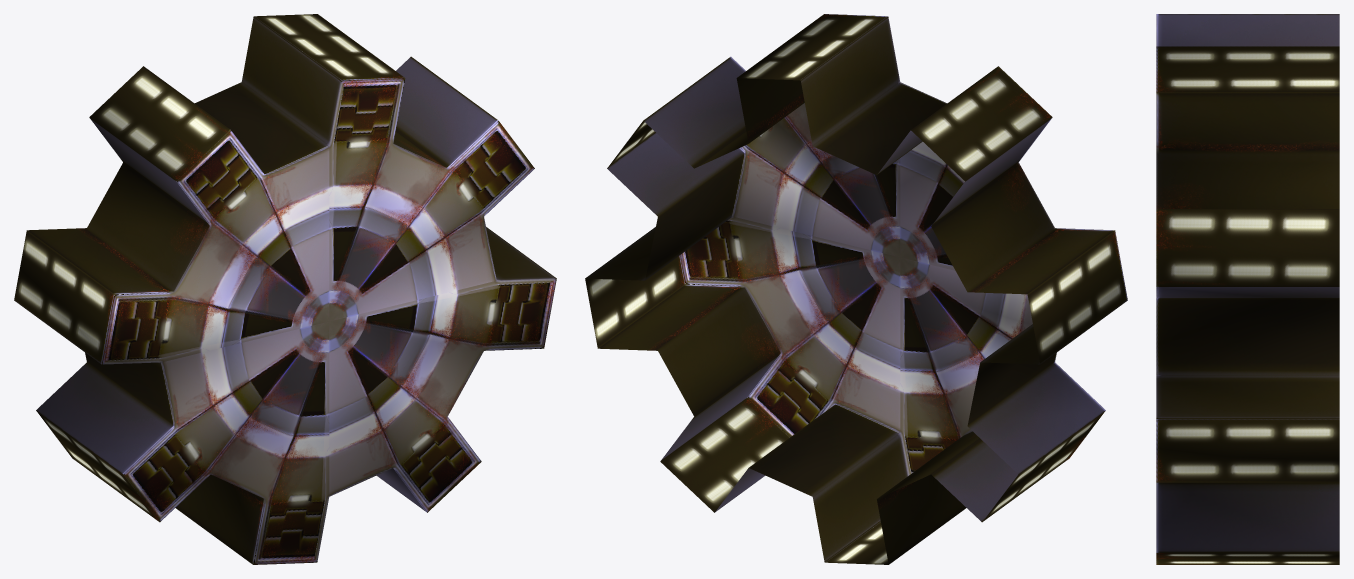
The model's file is newGear.FBX.
3 renders of one model, left to right at view 1: azimuth 30°, elevation 25°; view 2: azimuth 150°, elevation 25°; view 3: azimuth 270°, elevation 25°, orthographic. The views are drawn at different scales.
Visible parts, largest first — view 1: Gear; view 2: Gear; view 3: Gear.
Part boxes in pixels (bbox=[...]): Gear: bbox=[14, 14, 556, 564]; Gear: bbox=[585, 14, 1127, 564]; Gear: bbox=[1156, 14, 1339, 564].
Size of the model in its own units: 600 by 200 by 600.
